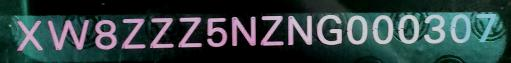letter: (45, 18, 91, 53), (313, 11, 345, 48), (285, 13, 316, 50), (13, 17, 44, 54), (147, 15, 177, 52), (118, 16, 147, 53), (229, 13, 258, 48), (344, 12, 370, 49), (177, 15, 204, 50), (371, 12, 396, 49), (447, 11, 474, 44), (474, 9, 499, 44), (205, 16, 230, 51), (259, 15, 285, 48), (92, 18, 118, 51), (422, 12, 447, 45), (397, 13, 421, 46)
